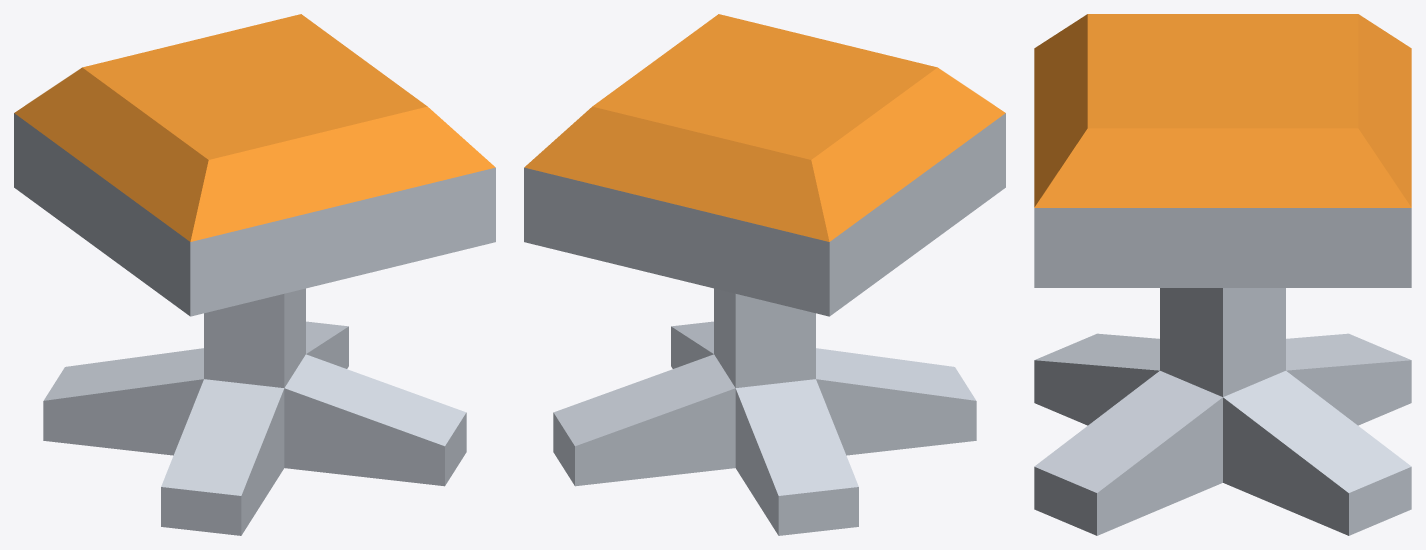
The model's file is desk_chairStool.glb.
3 views of the same model, side by side, from view 1: azimuth 30°, elevation 25°; view 2: azimuth 150°, elevation 25°; view 3: azimuth 270°, elevation 25° (orthographic). The views are drawn at different scales.
Parts seen in each view (by area): view 1: desk_chairStool; view 2: desk_chairStool; view 3: desk_chairStool.
Boxes of the visible parts, x1=… form: desk_chairStool: x1=14, y1=14, x2=495, y2=535; desk_chairStool: x1=524, y1=14, x2=1005, y2=535; desk_chairStool: x1=1034, y1=14, x2=1411, y2=535.
Bounding box in the file's own units: 0.15 × 0.1687 × 0.15.
